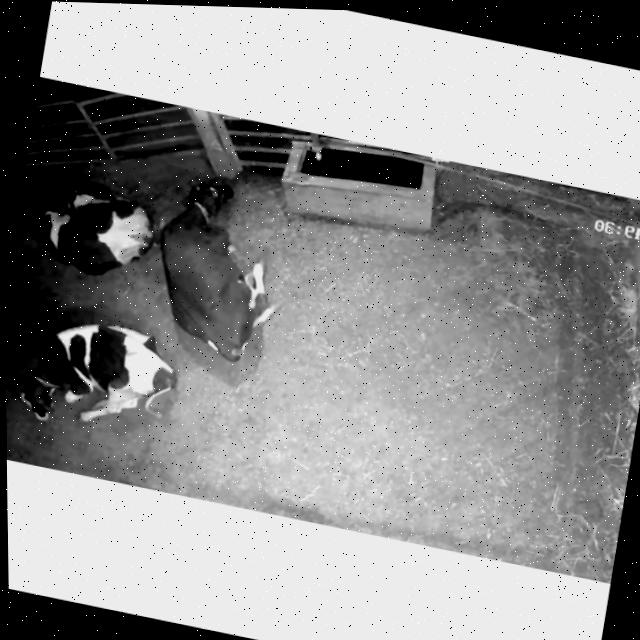lay: (143, 167, 308, 370), (4, 295, 189, 452), (32, 164, 167, 292)
